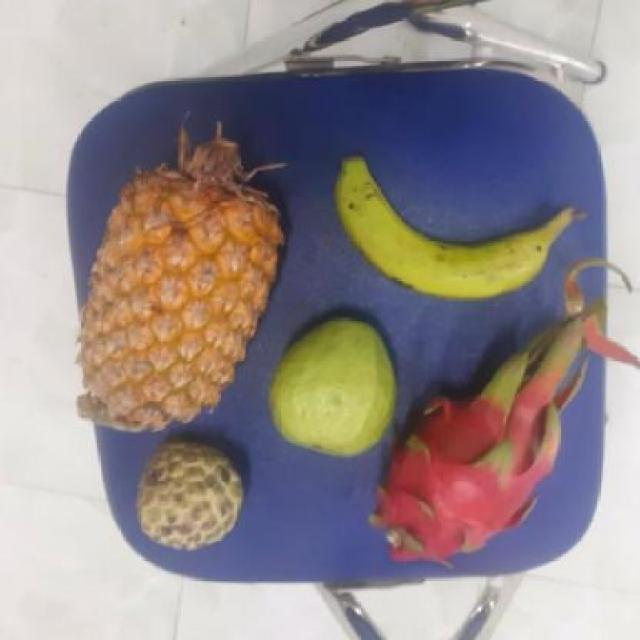banana: (340, 166, 582, 299)
dragon fruit: (377, 382, 555, 563)
guava: (270, 318, 402, 455)
pineapple: (85, 156, 287, 430)
sugar apple: (138, 444, 247, 547)
